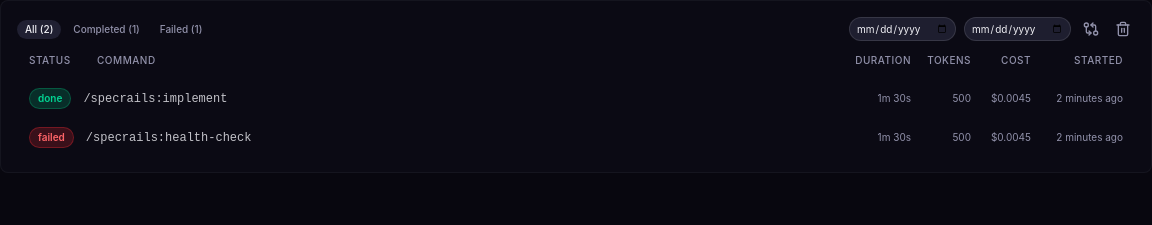
Scenario: RecentJobs - extended coverage › compare mode › in compare mode, clicking a job row selects it
Step 1. Click the 4th button → (1091, 29), box [1079,17,1103,41]
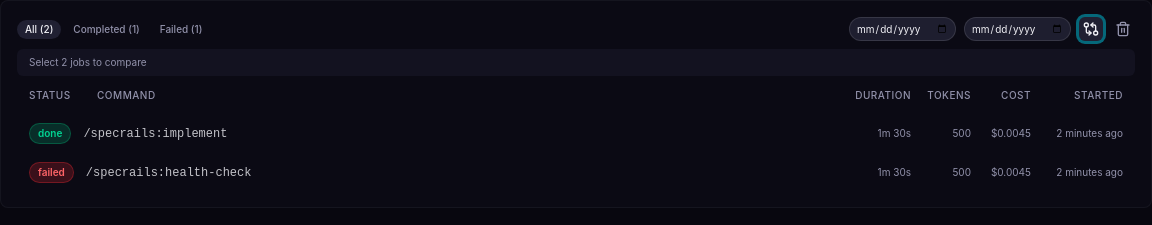
Expected: the text "Select 2 jobs to compare" is shown, [29,55,147,70]
// Click first job to select
Step 2. Click the button "/specrails:implement" → (50, 134), box [29,123,1123,144]
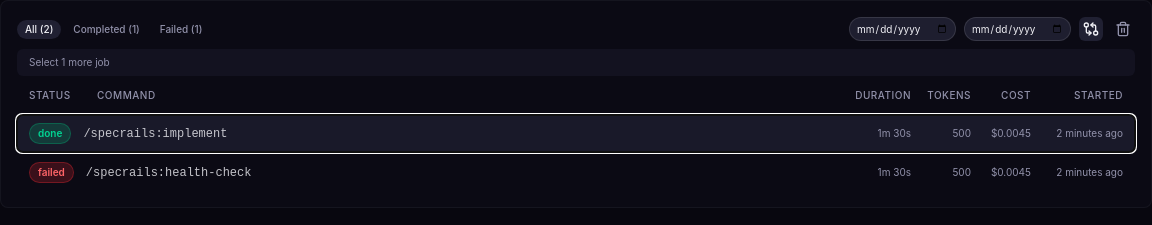
Expected: the text "Select 1 more job" is shown, [29,55,110,70]
